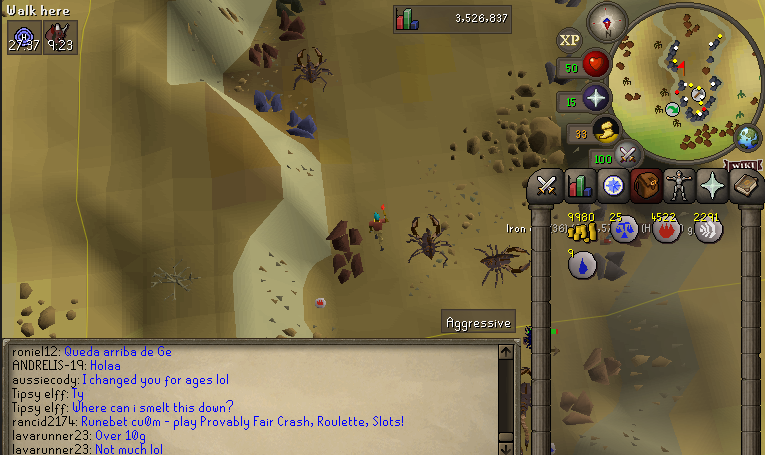iron: (324, 215, 365, 254), (326, 250, 369, 285), (276, 12, 310, 45), (248, 41, 280, 70)
